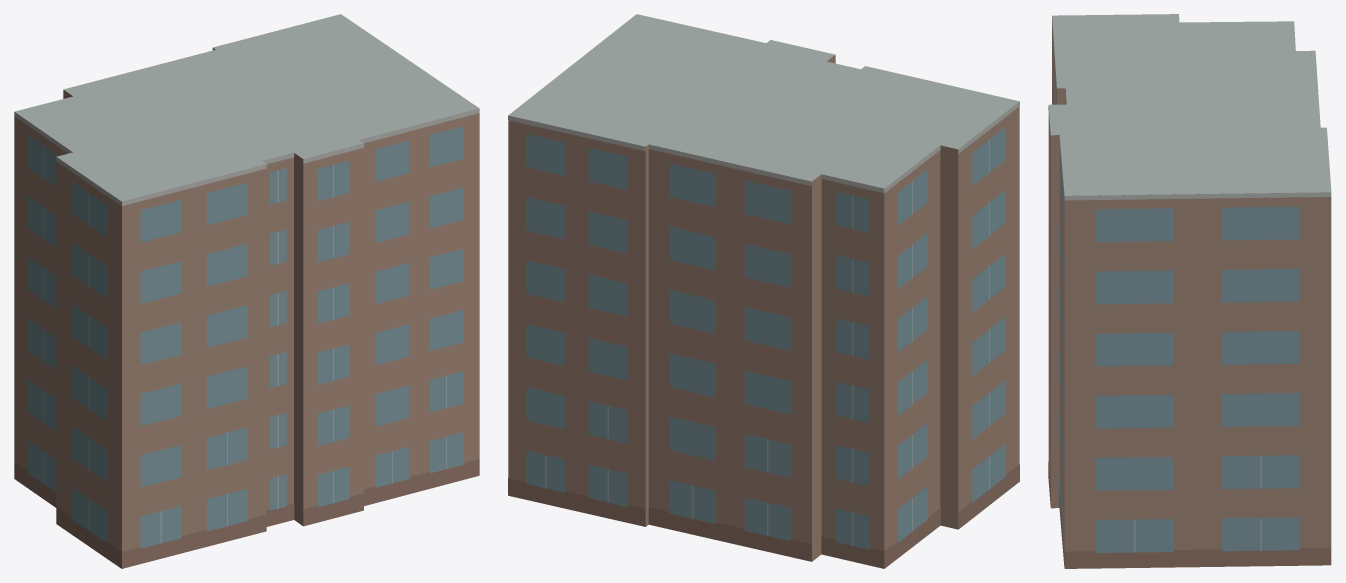
Rendered from survey-upis-33040596.glb.
The picture shows the model from 3 angles, left to right: view 1: azimuth 30°, elevation 25°; view 2: azimuth 150°, elevation 25°; view 3: azimuth 270°, elevation 25°; orthographic projection. The views are drawn at different scales.
Parts seen in each view (by area): view 1: survey-upis-33040596.tmp; view 2: survey-upis-33040596.tmp; view 3: survey-upis-33040596.tmp.
Boxes of the visible parts, x1=… form: survey-upis-33040596.tmp: x1=14, y1=14, x2=479, y2=568; survey-upis-33040596.tmp: x1=508, y1=14, x2=1019, y2=568; survey-upis-33040596.tmp: x1=1048, y1=14, x2=1331, y2=568.
Size of the model in its own units: 20.72 by 19.8 by 13.62.
